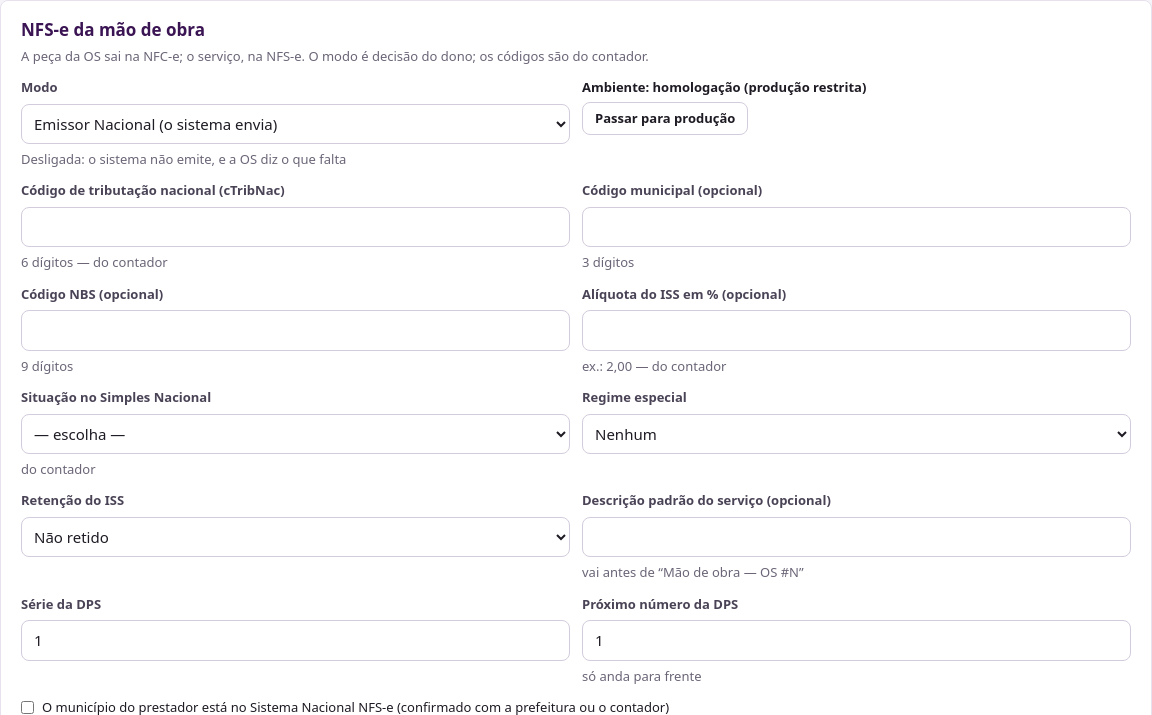
Test case: a NFS-e na configuração fiscal › a recusa do servidor (produção travada) aparece na tela
Click the button "Passar para produção": (665, 118) [582,102,748,135]
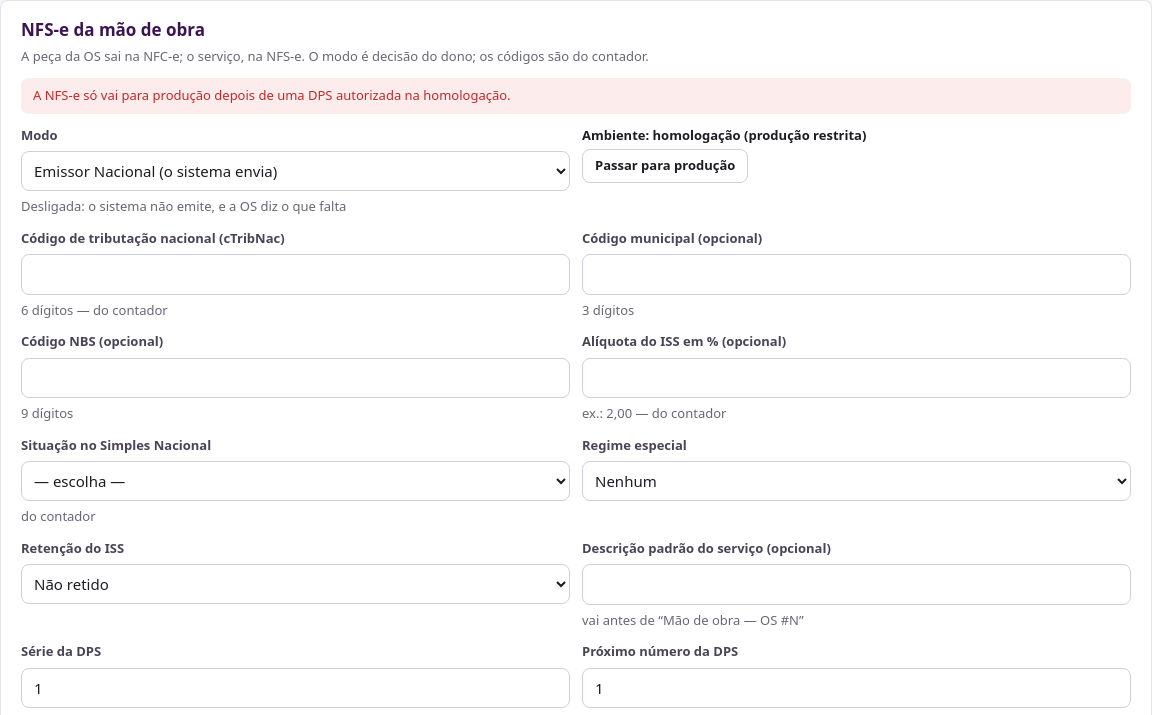
Check: the message shows "só vai para produção", box [33,86,511,104]
